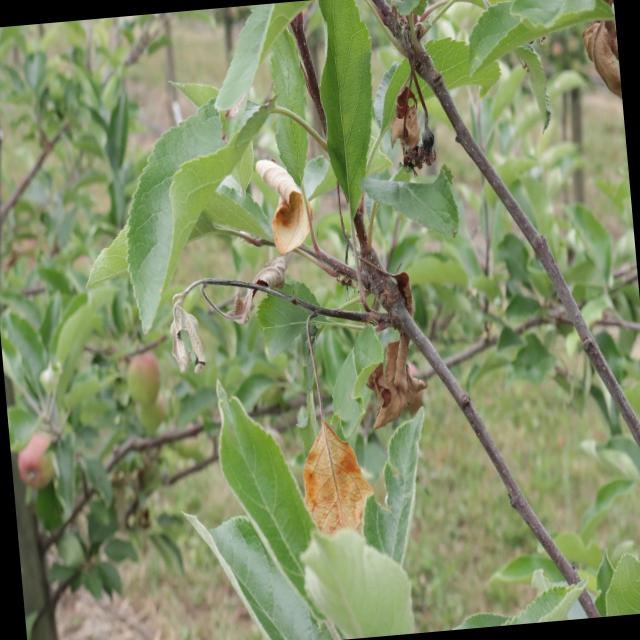-FireBlight-: (334, 245, 436, 430), (384, 44, 446, 175), (165, 273, 228, 379), (254, 157, 319, 254), (572, 0, 621, 98)
